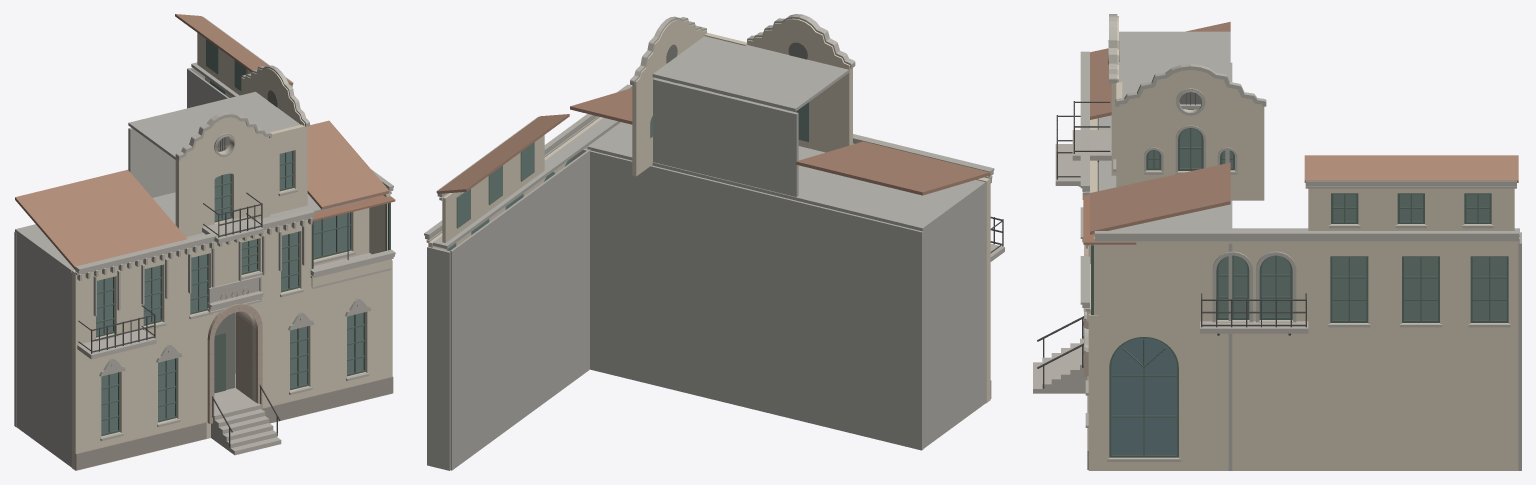
File: jingan-wangdetang-augustinian-office-lod.glb
The picture shows the model from 3 angles, left to right: view 1: azimuth 30°, elevation 25°; view 2: azimuth 150°, elevation 25°; view 3: azimuth 270°, elevation 25°; orthographic projection. The views are drawn at different scales.
Visible parts, largest first — view 1: 望德堂院内门廊与曲线山墙; view 2: 望德堂院内门廊与曲线山墙; view 3: 望德堂院内门廊与曲线山墙.
Boxes of the visible parts, <box> form: 望德堂院内门廊与曲线山墙: <box>14,14,395,470</box>; 望德堂院内门廊与曲线山墙: <box>424,14,1004,470</box>; 望德堂院内门廊与曲线山墙: <box>1033,14,1521,470</box>.
Bounding box in the file's own units: 13.04 × 11.77 × 14.33.
